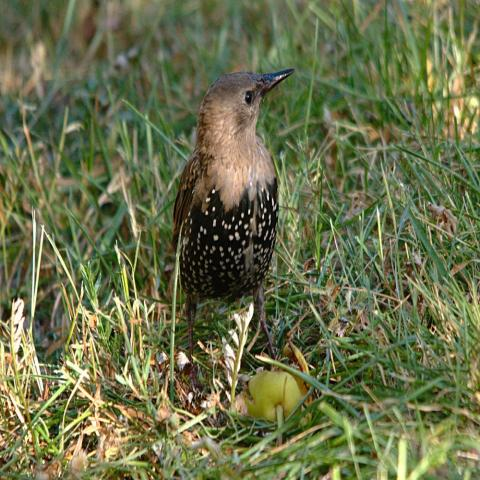bird: (169, 63, 296, 391)
